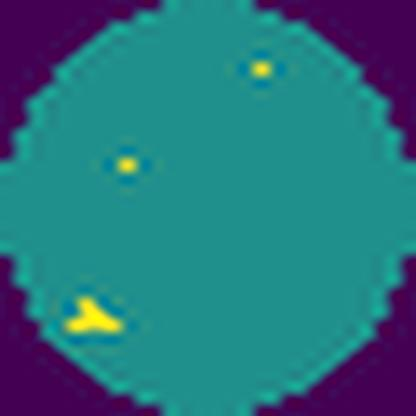Loc: (67, 290, 128, 338)
